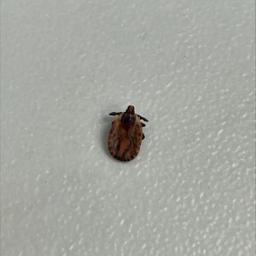Rhipicephalus sanguineus: (107, 104, 149, 162)
